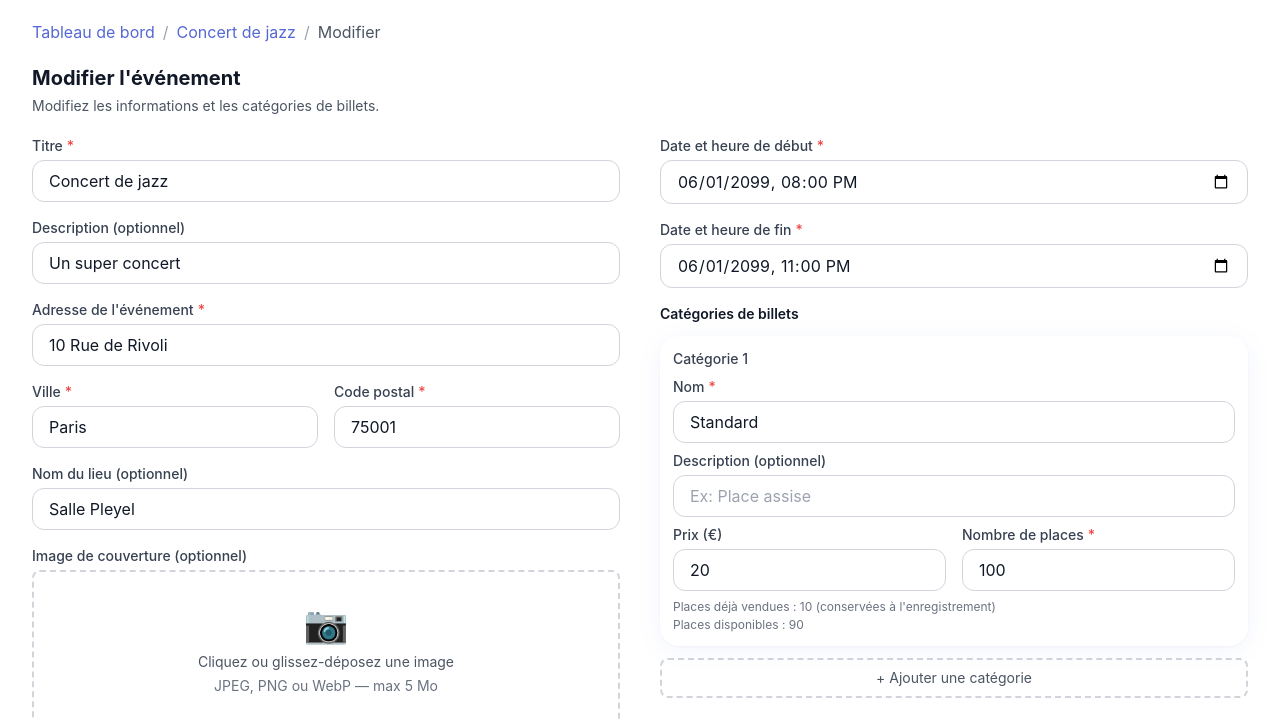
Test: EventEditPage - professional event › adds and removes ticket categories
This screenshot has width=1280, height=720.
Expected: the heading "Modifier l'événement" is shown, [32,66,240,90]
Click the button with aria-label "Ajouter une catégorie de billets". click: (954, 678)
box: [660,658,1248,698]
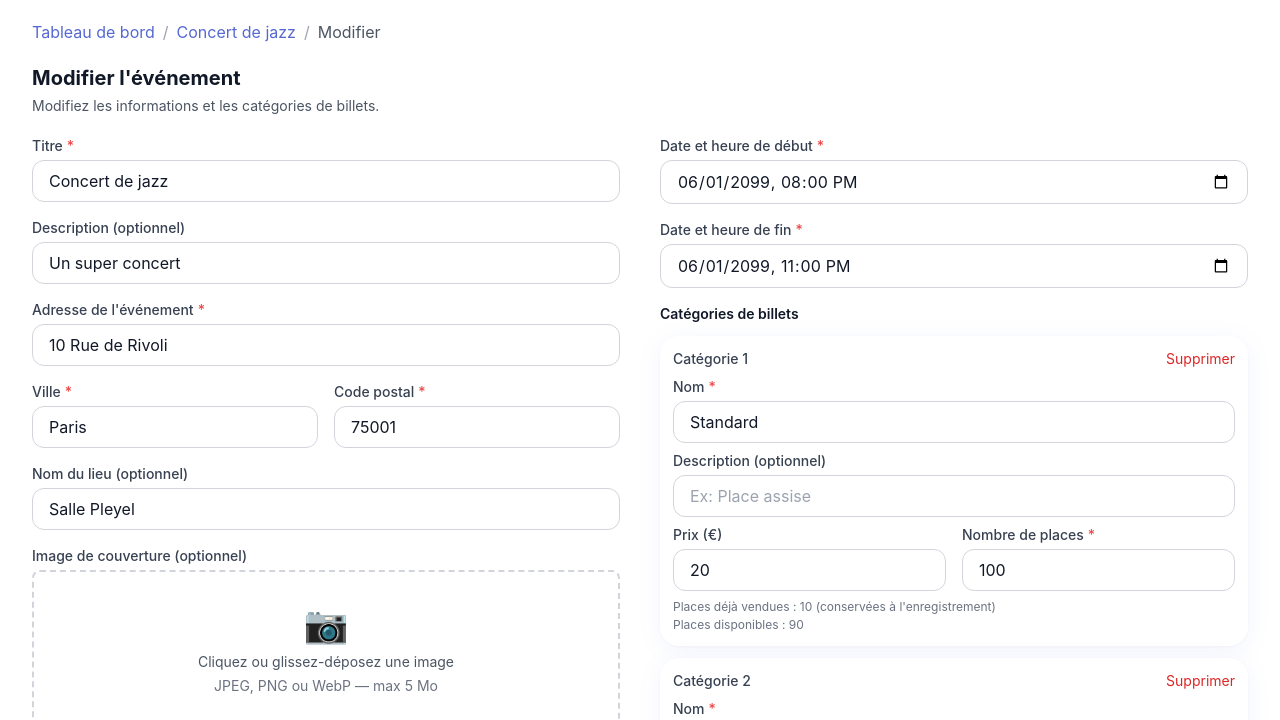
Click the button with aria-label "Supprimer la catégorie 2". click: (1201, 681)
box: [1166,671,1235,691]
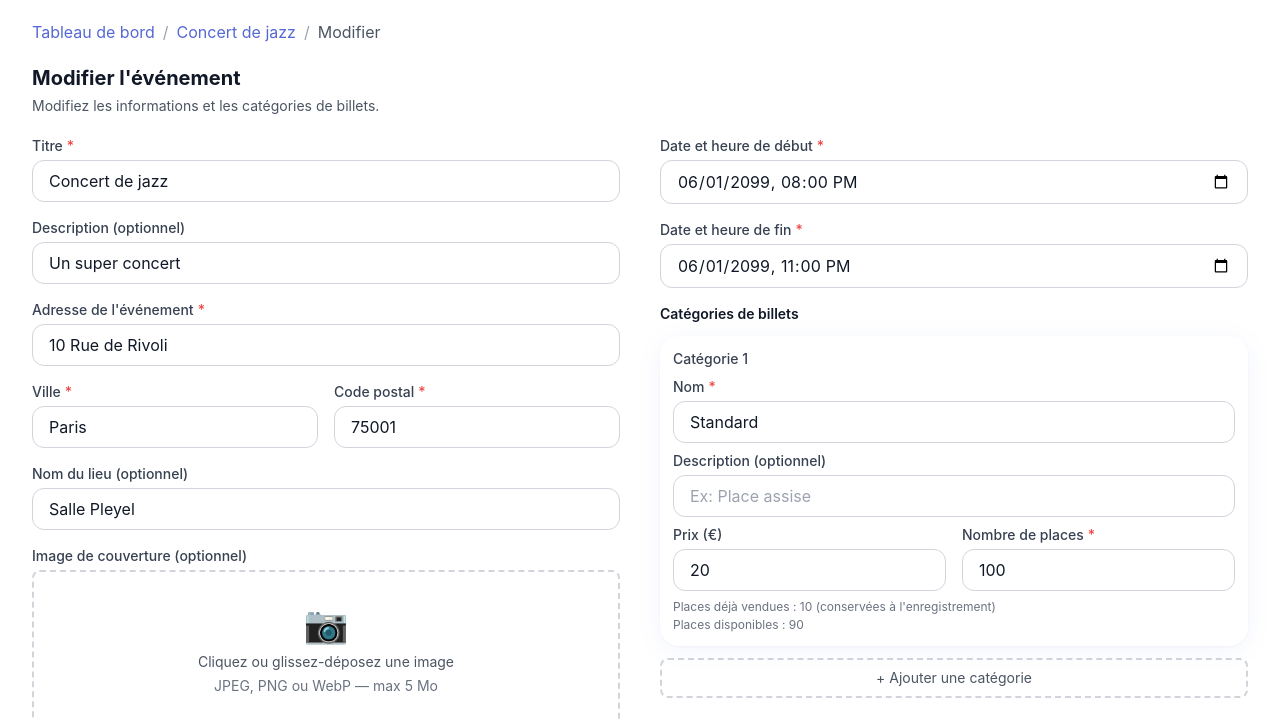
Expected: the label with id "cat-name-1" is gone
